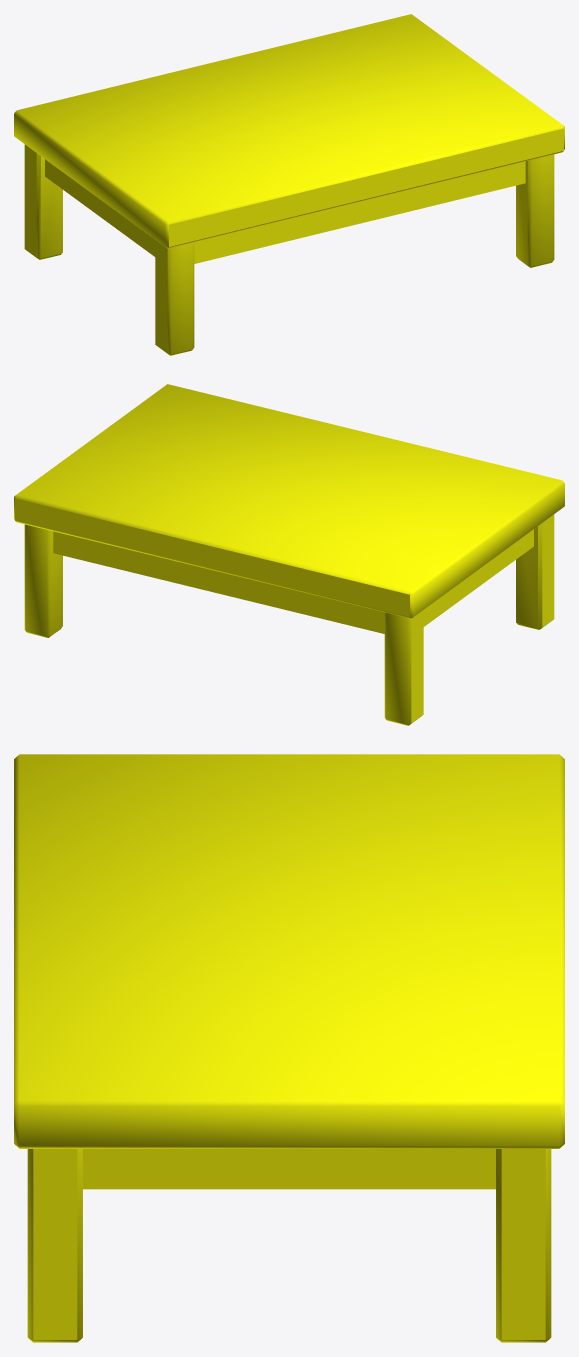
Rendered from kaykit-table-medium-long.glb.
3 views of the same model, one above another, from view 1: azimuth 30°, elevation 25°; view 2: azimuth 150°, elevation 25°; view 3: azimuth 270°, elevation 25° (orthographic). The views are drawn at different scales.
Visible parts, largest first — view 1: table_medium_long; view 2: table_medium_long; view 3: table_medium_long.
Boxes of the visible parts, <box> form: table_medium_long: <box>14,14,564,355</box>; table_medium_long: <box>14,384,564,725</box>; table_medium_long: <box>14,754,564,1342</box>.
Size of the model in its own units: 3 by 0.9999 by 2.
